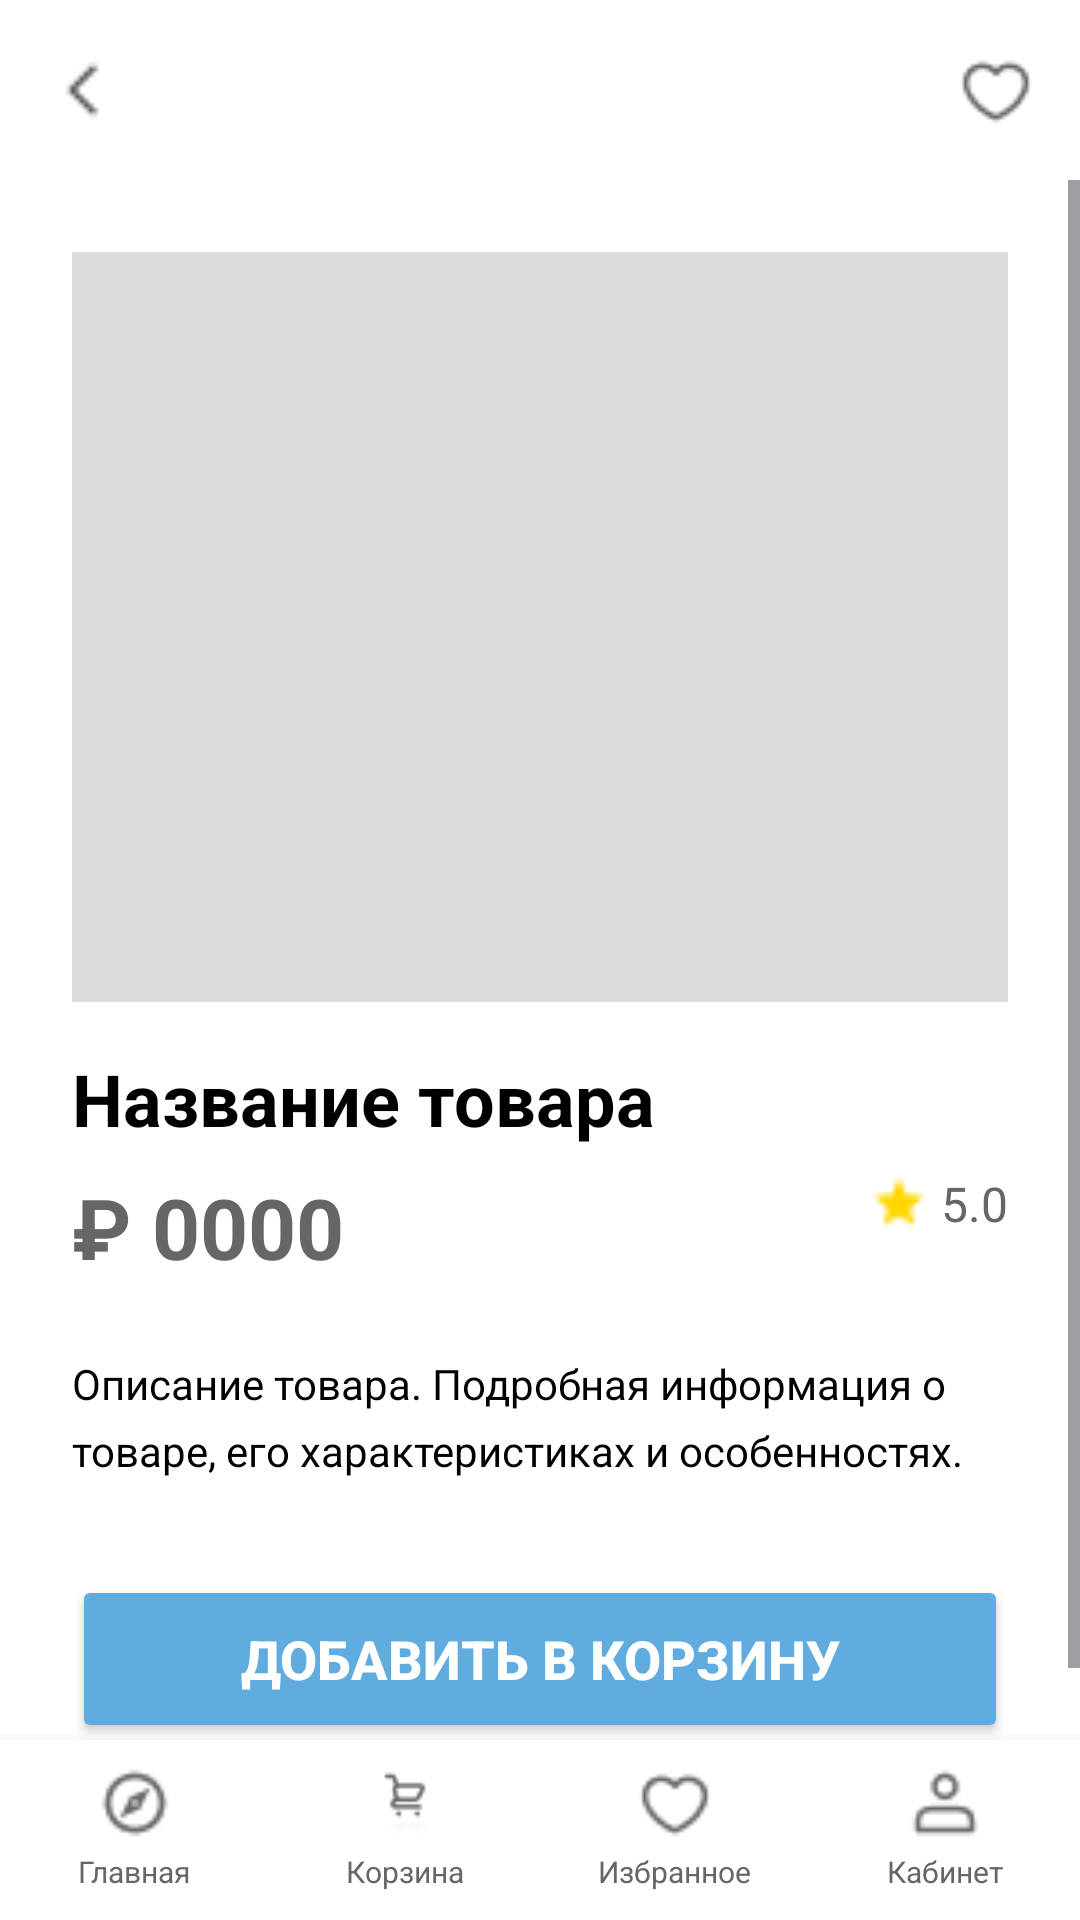

Named icons in this screenshot (1080 x 1920) and their centers, [x,y]:
back: [82,90]
cart: [405,1795]
heart: [996,91], [675,1804]
star: [899,1202]
